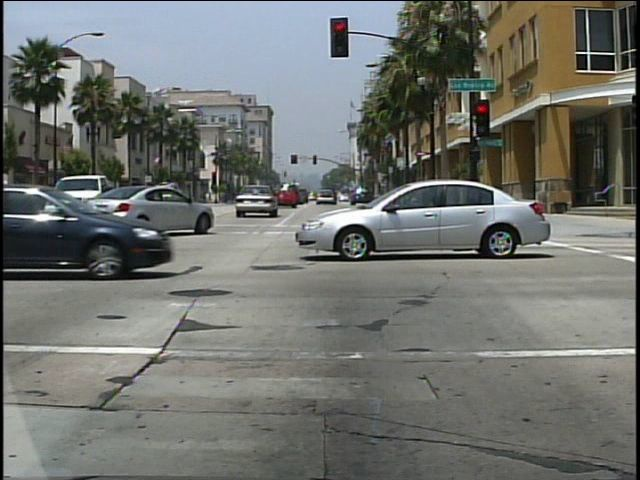person: (1, 176, 25, 231)
